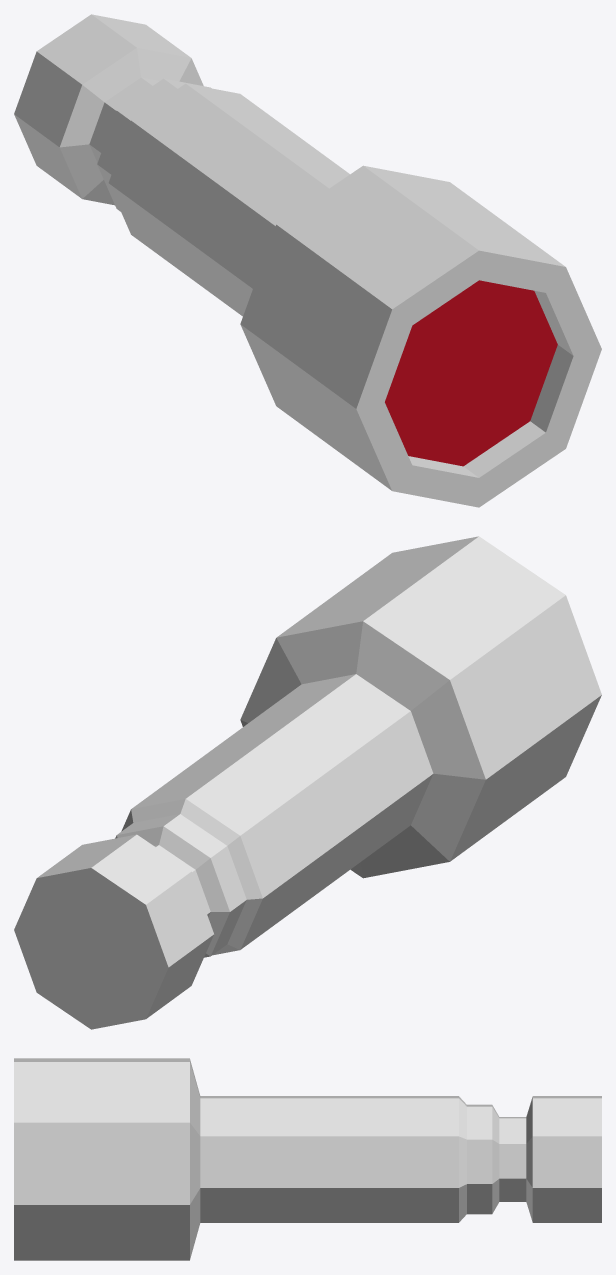
Rendered from SM_Item_Spyglass_02.glb.
3 renders of one model, top to bottom at view 1: azimuth 30°, elevation 25°; view 2: azimuth 150°, elevation 25°; view 3: azimuth 270°, elevation 25°, orthographic. The views are drawn at different scales.
Parts seen in each view (by area): view 1: SM_Item_Spyglass_02_00; view 2: SM_Item_Spyglass_02_00; view 3: SM_Item_Spyglass_02_00.
Part boxes in pixels (x1=…): SM_Item_Spyglass_02_00: x1=14, y1=14, x2=601, y2=507; SM_Item_Spyglass_02_00: x1=14, y1=536, x2=601, y2=1029; SM_Item_Spyglass_02_00: x1=14, y1=1058, x2=601, y2=1260.
Bounding box in the file's own units: 0.0997 × 0.0997 × 0.2726.
Materials: 1 (1 with a texture image).
